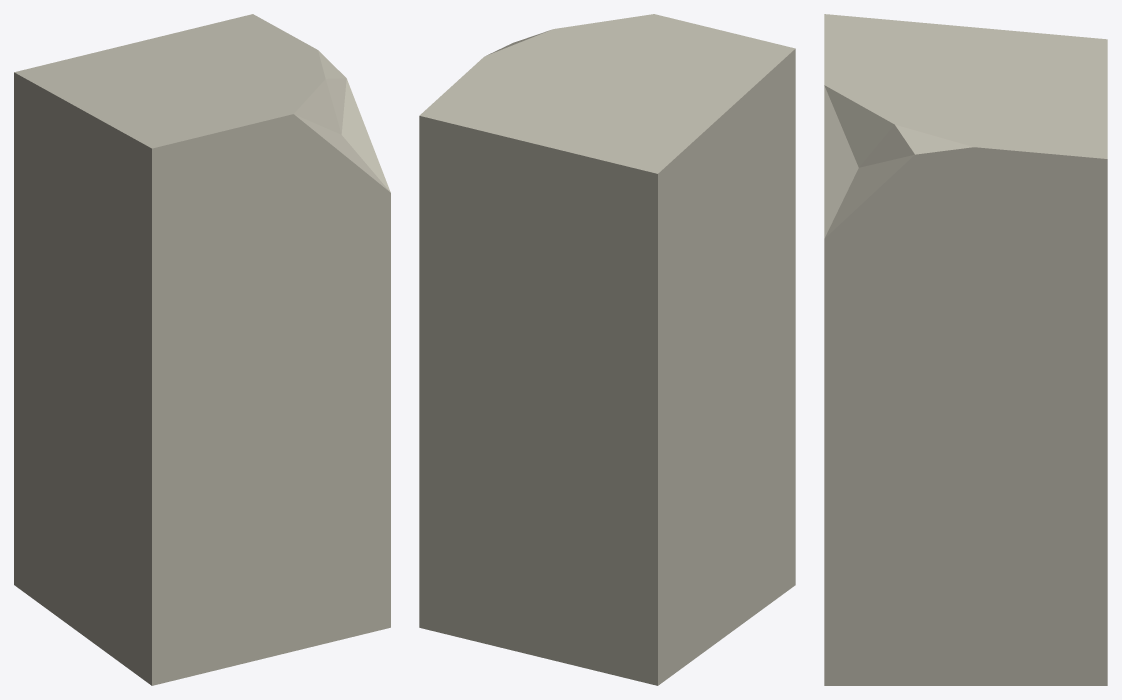
File: Rock_Square_m_08.fbx
3 renders of one model, left to right at view 1: azimuth 30°, elevation 25°; view 2: azimuth 150°, elevation 25°; view 3: azimuth 270°, elevation 25°, orthographic. The views are drawn at different scales.
Parts seen in each view (by area): view 1: Rock_Square_m_08; view 2: Rock_Square_m_08; view 3: Rock_Square_m_08.
Part boxes in pixels (box(x1,y1,x2,y2)): Rock_Square_m_08: box(14, 14, 390, 685); Rock_Square_m_08: box(419, 14, 795, 685); Rock_Square_m_08: box(824, 14, 1107, 685).
Size of the model in its own units: 39.52 by 84.95 by 39.52.
